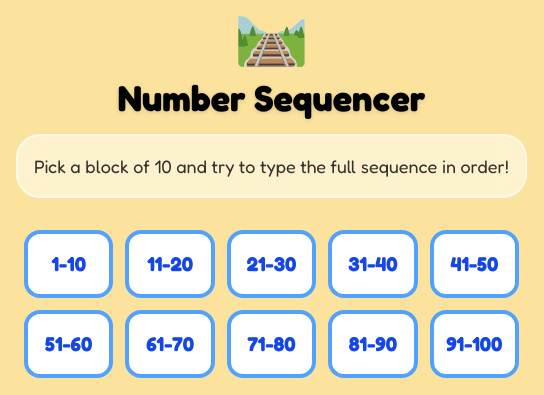
Test: NumberSequencer Game Integration › progresses completely through a sequence cleanly rejecting bad keystrokes
This screenshot has width=544, height=395.
// Select the 21-30 block
Click the button "21-30". click: point(272, 264)
box: x1=227 y1=230 x2=316 y2=298
Wait 4000 ms
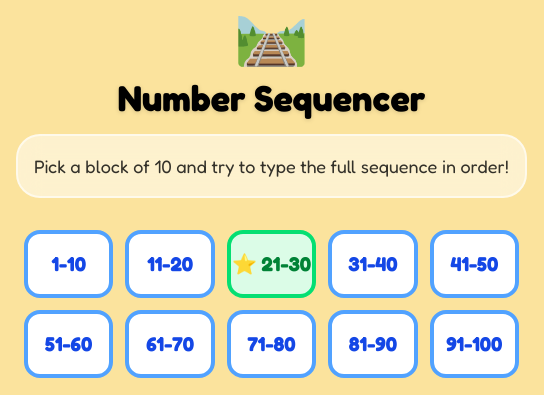
Result: the button "⭐ 21-30" is shown at x1=227 y1=230 x2=316 y2=298
